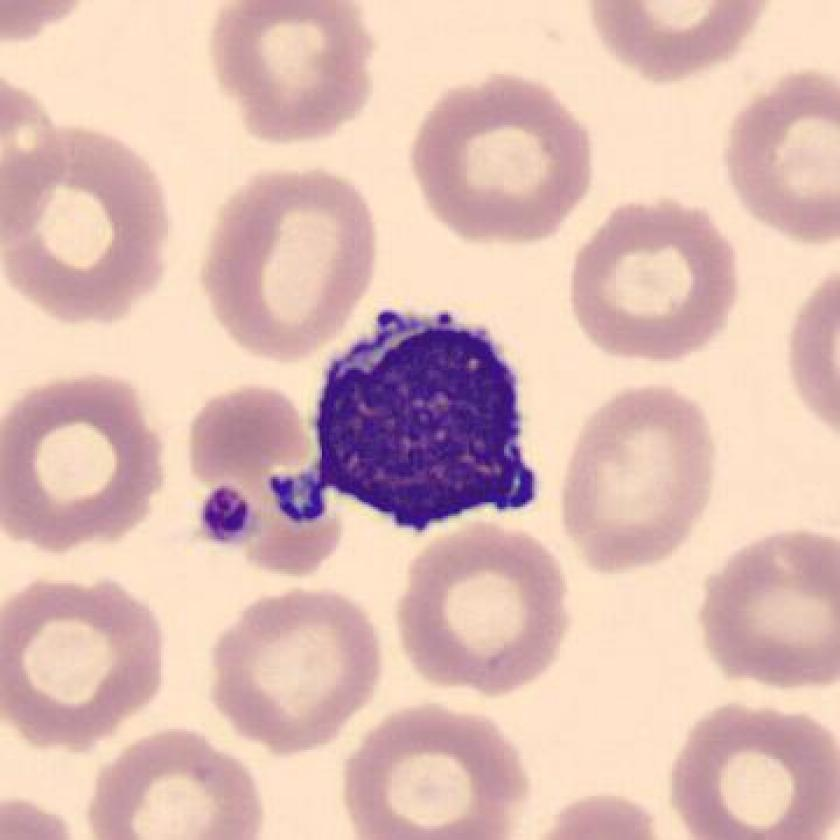lymphocyte: (262, 293, 559, 557)
